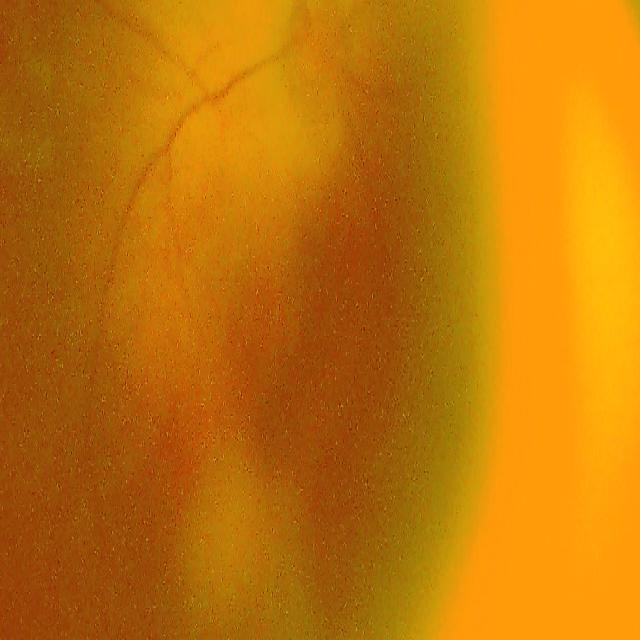optic-nerve: (274, 0, 366, 126)
